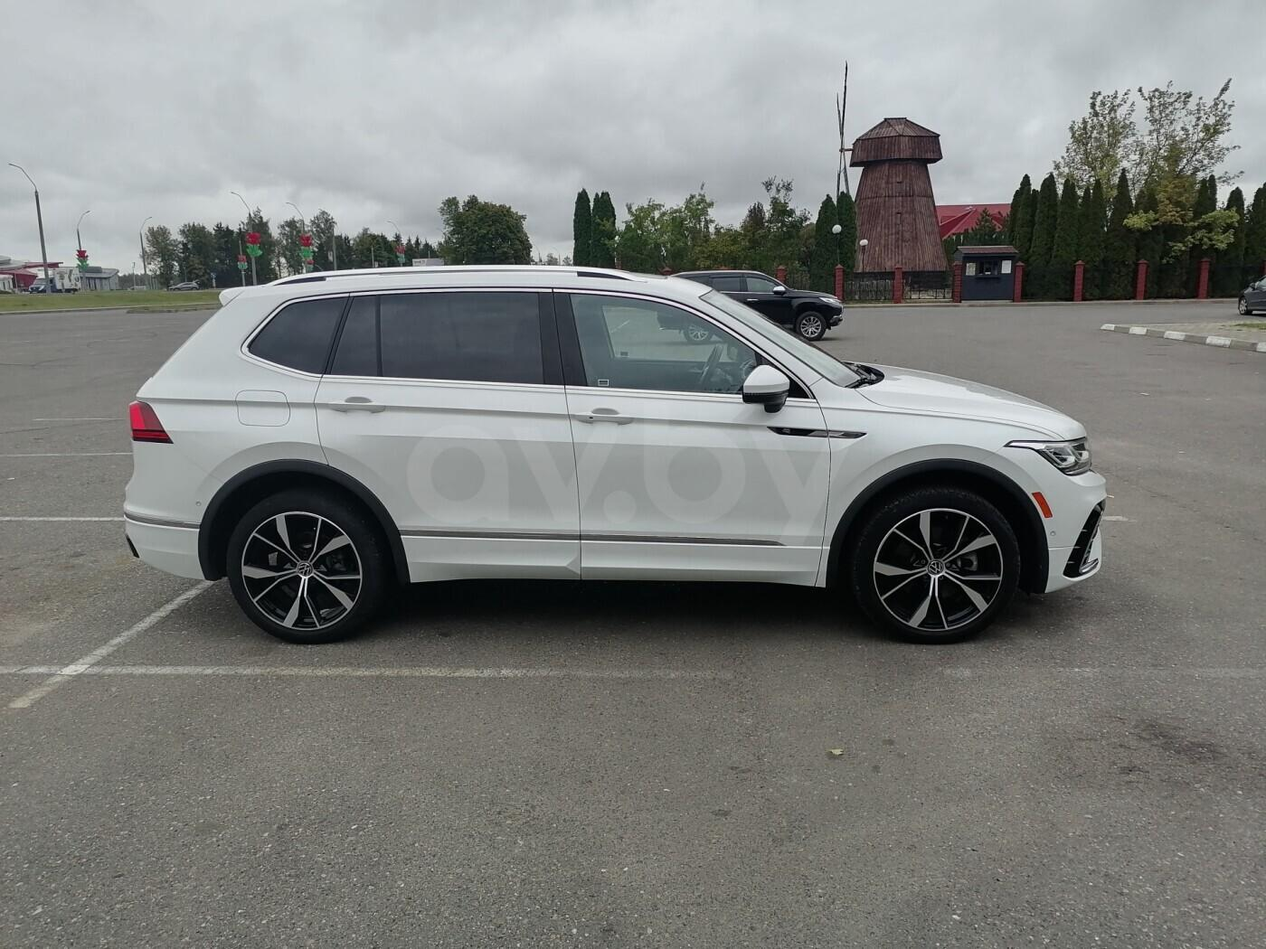Tiguan_2020-2024: (120, 263, 1111, 639)
